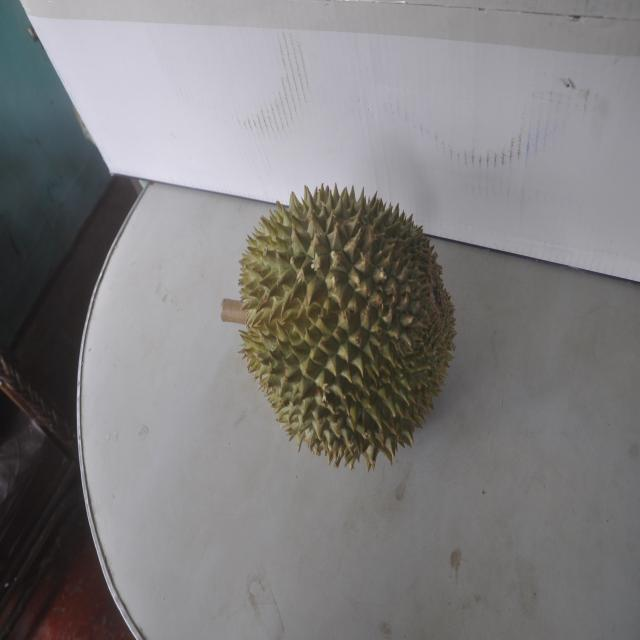mature: (228, 179, 448, 473)
